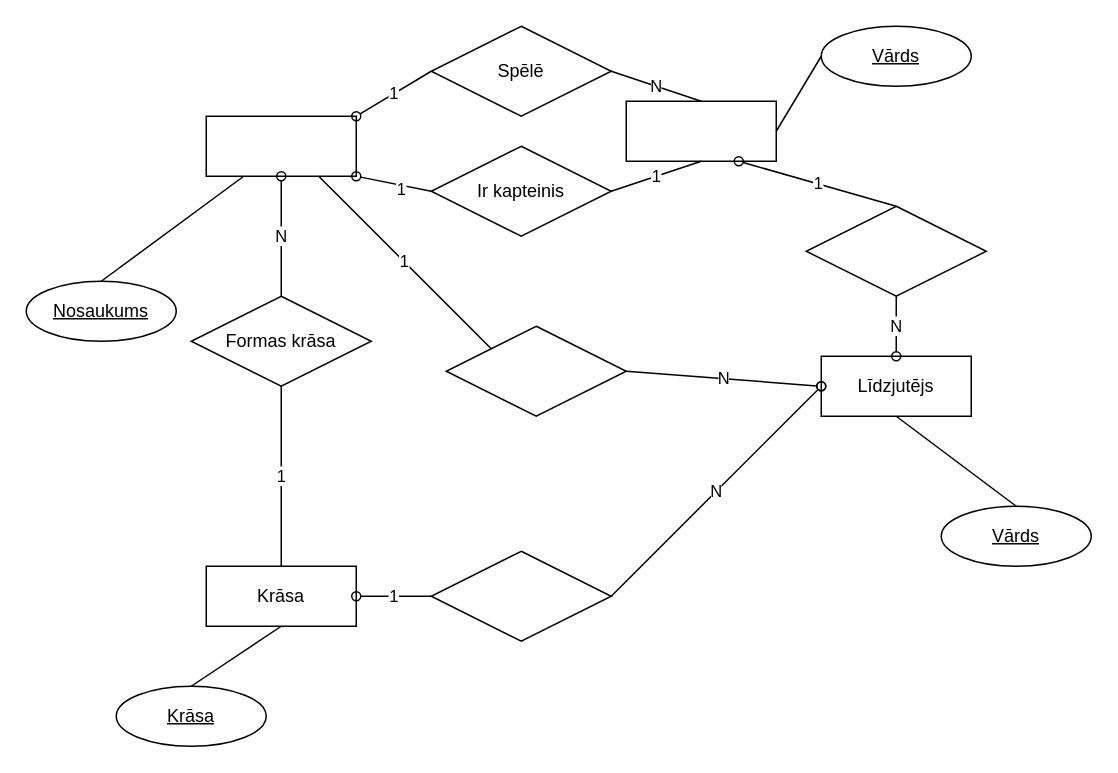
Some shapes in this 1118 by 773 pixel diagram are drawn without their labels. The centre of each missing label's shape, as x and y in pixels:
"Jūt līdzi" goes at point (535, 370).
"Komada" goes at point (280, 145).
"Mīļākais spēlētājs" goes at point (895, 250).
"Mīļākā krāsa" goes at point (520, 595).
"Spelētajs" goes at point (700, 130).
